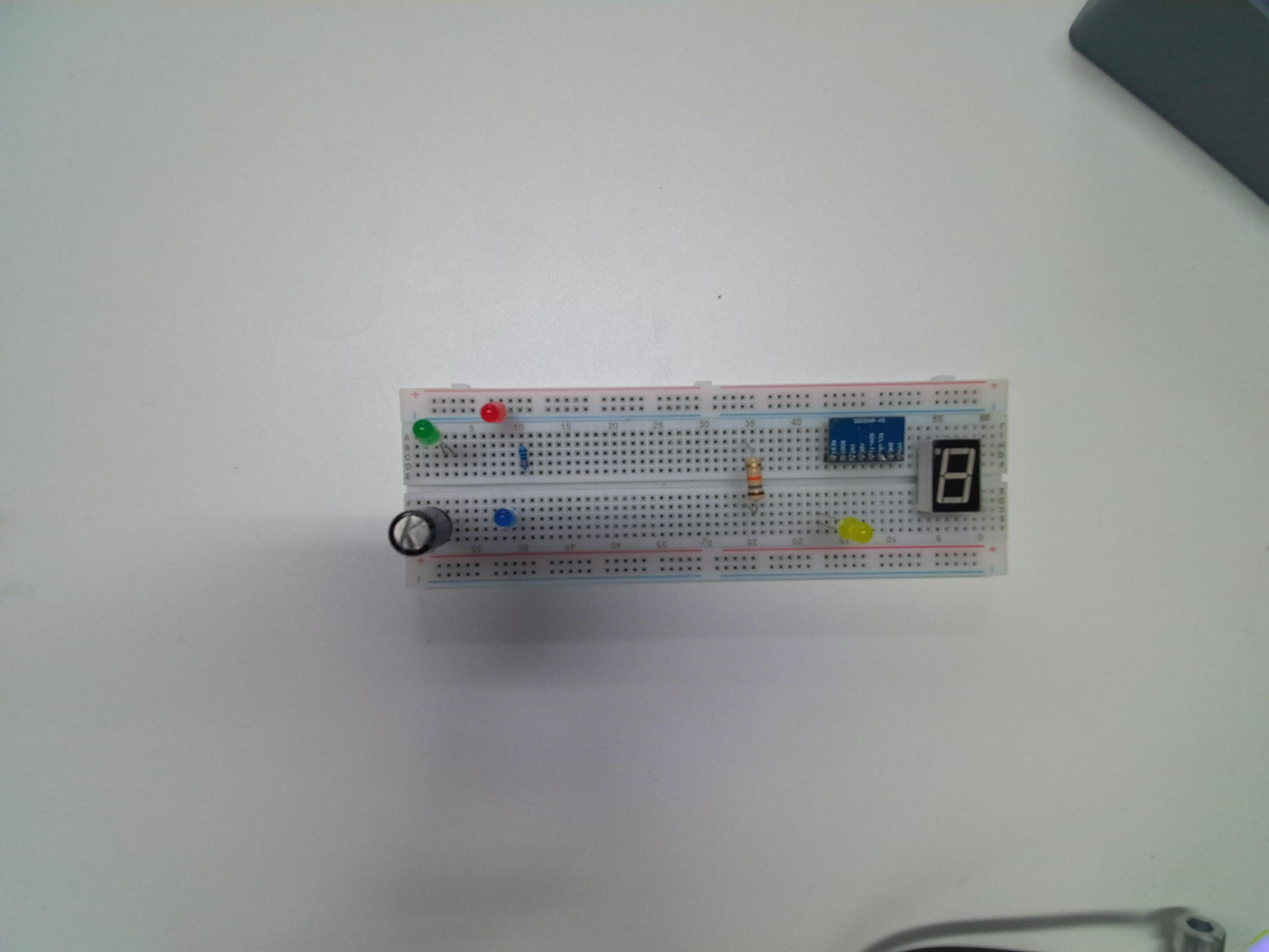base: (391, 379, 1008, 588)
blue-board: (824, 412, 906, 467)
blue-led: (495, 508, 516, 529)
capacitor: (388, 507, 453, 559)
digit-board: (920, 435, 982, 514)
green-led: (409, 417, 446, 449)
red-led: (481, 400, 506, 422)
resistor-big: (744, 456, 768, 504)
resistor-small: (518, 445, 529, 471)
yellow-led: (838, 515, 873, 545)
